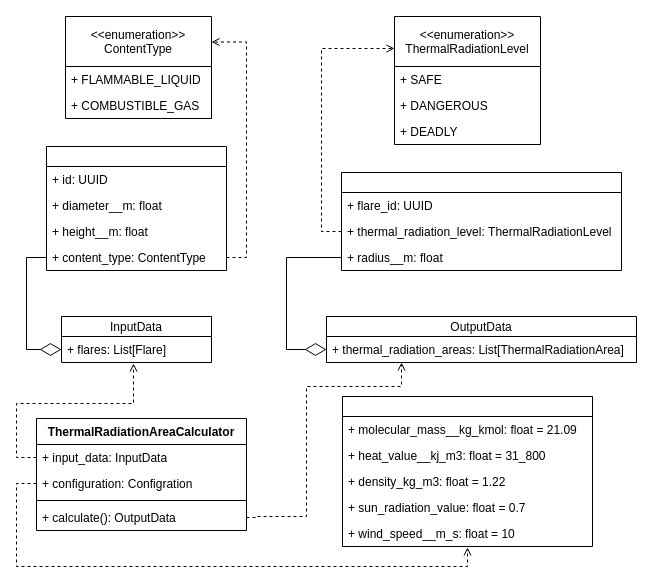
Some shapes in this 653 by 583 pixel diagram are drawn without their labels. Each missing label, with the box of its shape:
Configuration: (342, 396, 592, 546)
Flare: (46, 146, 226, 270)
ThemalRadiationArea: (340, 172, 622, 270)
